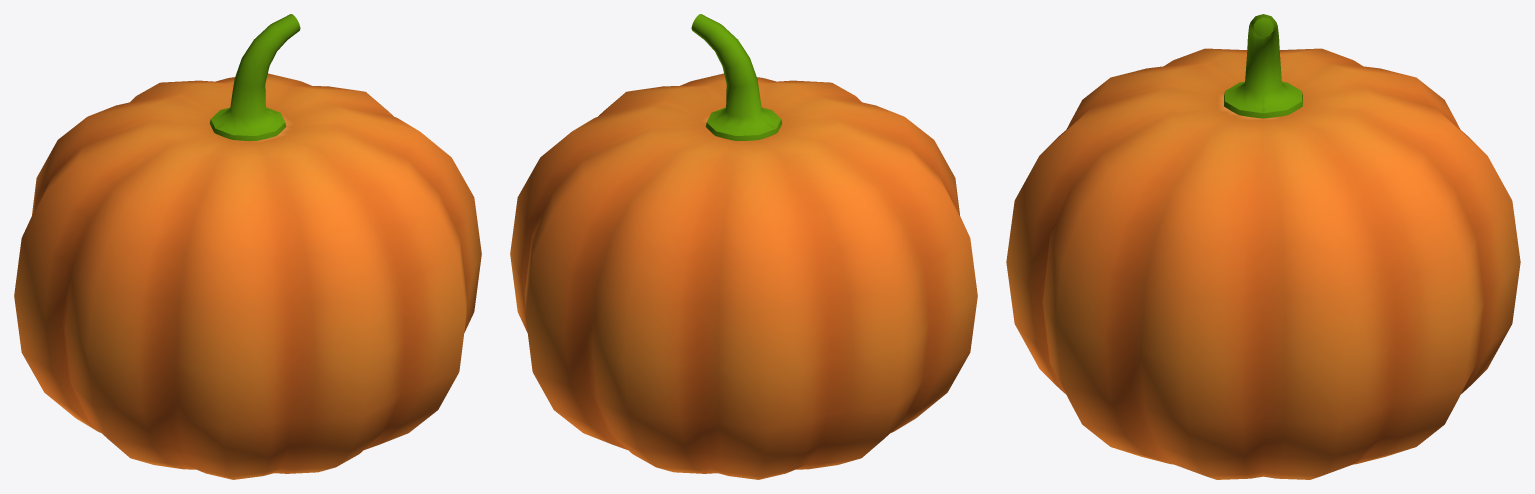
File: Pumpkin.FBX
3 views of the same model, side by side, from view 1: azimuth 30°, elevation 25°; view 2: azimuth 150°, elevation 25°; view 3: azimuth 270°, elevation 25° (orthographic). The views are drawn at different scales.
Visible parts, largest first — view 1: Pumpkin; view 2: Pumpkin; view 3: Pumpkin.
Part boxes in pixels (x1,y1,x2,y2): Pumpkin: (14, 14, 481, 479); Pumpkin: (510, 14, 977, 479); Pumpkin: (1006, 14, 1520, 479).
Bounding box in the file's own units: 191 × 187 × 201.
